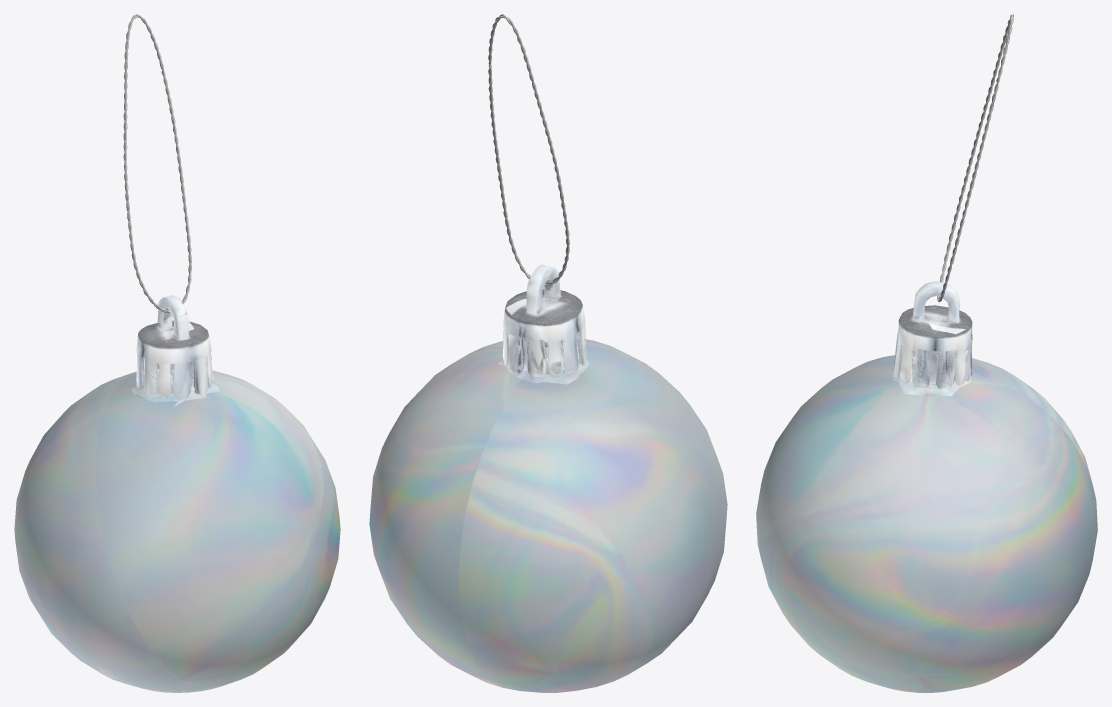
Rendered from Iridescent_Orb_M.glb.
3 renders of one model, left to right at view 1: azimuth 30°, elevation 25°; view 2: azimuth 150°, elevation 25°; view 3: azimuth 270°, elevation 25°, orthographic. The views are drawn at different scales.
Visible parts, largest first — view 1: Sphere.001, Sphere, GN Instance; view 2: Sphere.001, Sphere, GN Instance; view 3: Sphere.001, Sphere, GN Instance.
Part boxes in pixels (x1,y1,x2,y2): Sphere.001: (14,370,340,692); Sphere: (132,295,220,406); GN Instance: (123,14,191,312); Sphere.001: (369,339,727,692); Sphere: (499,264,589,384); GN Instance: (488,14,569,286); Sphere.001: (756,355,1097,692); Sphere: (893,281,972,395); GN Instance: (937,14,1013,302).
Bounding box in the file's own units: 0.06 × 0.1282 × 0.0599.
Materials: 3 (2 with a texture image).
